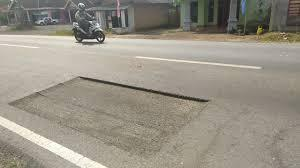Pothole: (0, 60, 214, 155)
